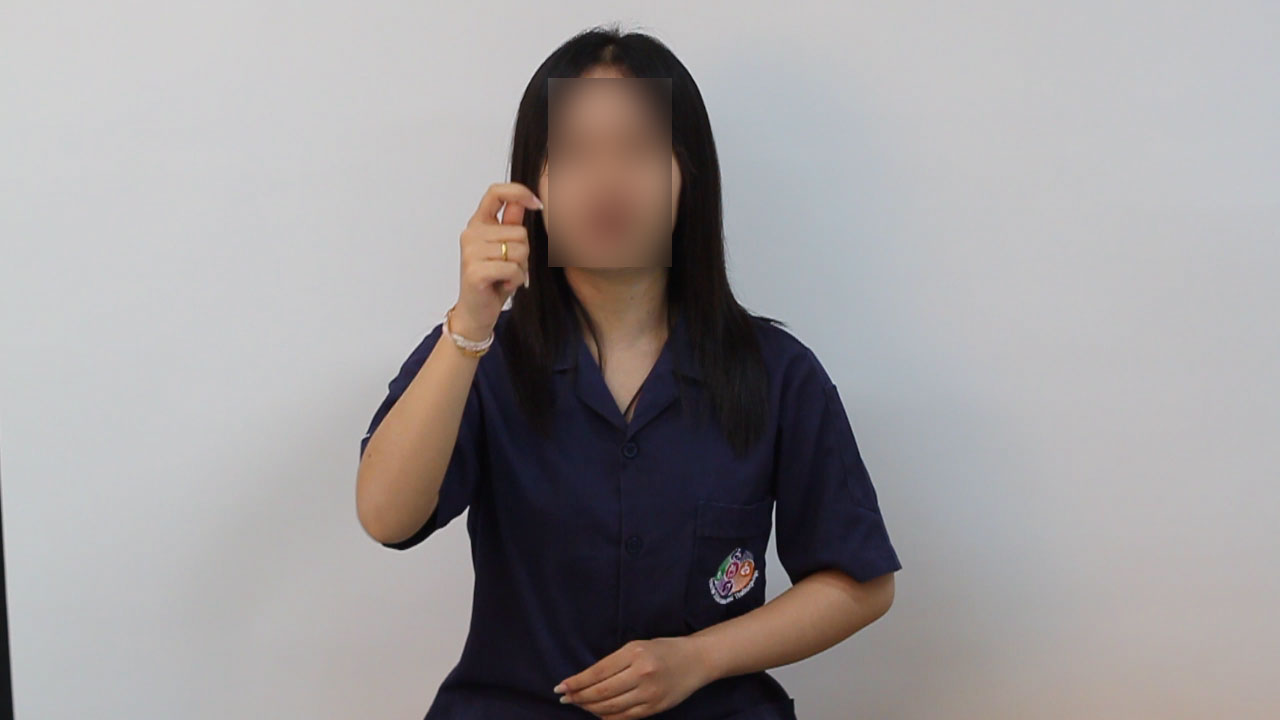or: (451, 176, 548, 337)
